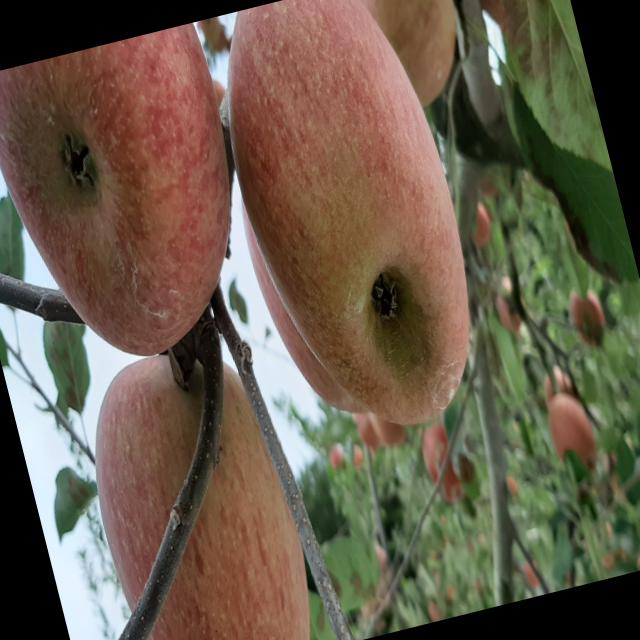fresh: (193, 1, 511, 459), (1, 20, 282, 391)
